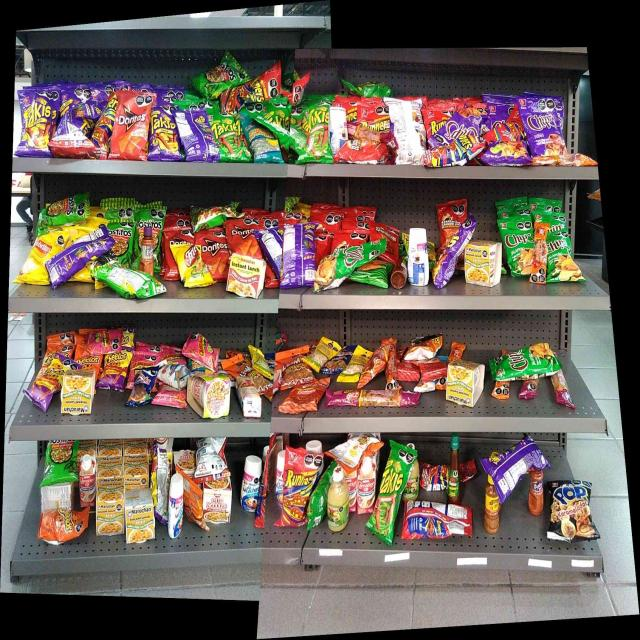bitzEnchilado90: (282, 387, 318, 411)
bitzEnchilado95: (533, 224, 547, 284), (536, 154, 594, 168)
bitzHabanero: (328, 390, 417, 406), (552, 379, 572, 408)
bokadosCacahuates: (131, 367, 152, 408)
botaneraChilito: (484, 481, 499, 531)
cheetosFlaminHot: (30, 369, 58, 412), (104, 354, 127, 391)
cheetosOriginal: (40, 512, 86, 542), (76, 354, 102, 366)
chipsFuego: (532, 98, 566, 149), (486, 140, 528, 166)
chipsJalapeno: (489, 346, 556, 375), (319, 247, 359, 289), (550, 232, 579, 281), (506, 220, 528, 276)
churrumais: (188, 332, 218, 368), (86, 331, 121, 350)
delPrimoSalsa: (328, 469, 349, 533)
doritosNacho: (119, 92, 147, 160), (204, 232, 228, 276), (229, 220, 257, 253)
fritosLimon: (180, 245, 202, 286)
leoCacahuates: (160, 362, 187, 390)
leoMix: (278, 351, 302, 384)
maruchanPollo: (465, 243, 501, 284), (97, 480, 123, 534), (62, 369, 91, 415), (127, 491, 153, 542), (448, 362, 475, 408)
maruchanRes: (230, 256, 264, 298)
nestleCarnation: (167, 475, 183, 540), (236, 376, 254, 418), (79, 457, 95, 504), (358, 460, 373, 510)
nestleLechera: (407, 228, 429, 286), (241, 455, 260, 513)
nissinCamaron: (190, 373, 229, 417)
nissinRes: (203, 483, 231, 522)
popKarameladas: (547, 474, 596, 541)
productoAtras: (408, 501, 470, 539), (390, 95, 418, 163), (178, 109, 210, 163), (61, 231, 106, 269), (196, 438, 230, 476), (503, 446, 525, 502), (111, 274, 160, 298)
rancheritos: (343, 141, 382, 165), (438, 203, 462, 230)
runners: (282, 450, 310, 526), (428, 137, 480, 165), (220, 82, 276, 101), (95, 96, 116, 146), (358, 101, 389, 131), (490, 116, 526, 139), (420, 106, 446, 132)
sabritasOriginal: (26, 236, 52, 261)
salsaBufalo: (449, 435, 460, 500)
semillasCalabaza: (348, 348, 367, 382), (251, 345, 271, 373), (309, 340, 331, 361)
semillasGirasol: (248, 125, 280, 164)
tajinDulce: (529, 466, 543, 516), (141, 228, 155, 271)
takisFuego: (22, 91, 48, 159), (434, 234, 462, 290), (150, 105, 176, 160)
takisOriginal: (376, 454, 402, 544), (302, 106, 329, 162), (213, 115, 243, 163)
tostitos: (42, 193, 88, 222), (48, 439, 76, 481), (197, 54, 240, 80), (110, 222, 131, 264)
